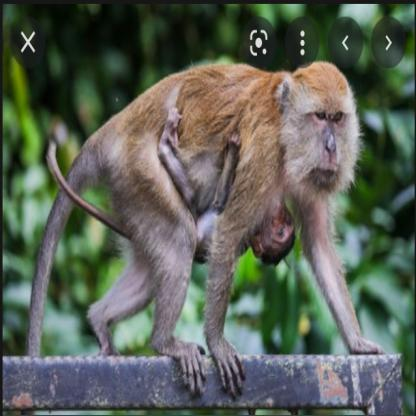monkey: (36, 60, 381, 392)
